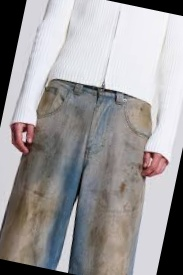earth: (6, 189, 51, 233), (91, 191, 113, 248), (136, 103, 151, 127), (42, 92, 53, 107), (117, 182, 126, 196)
